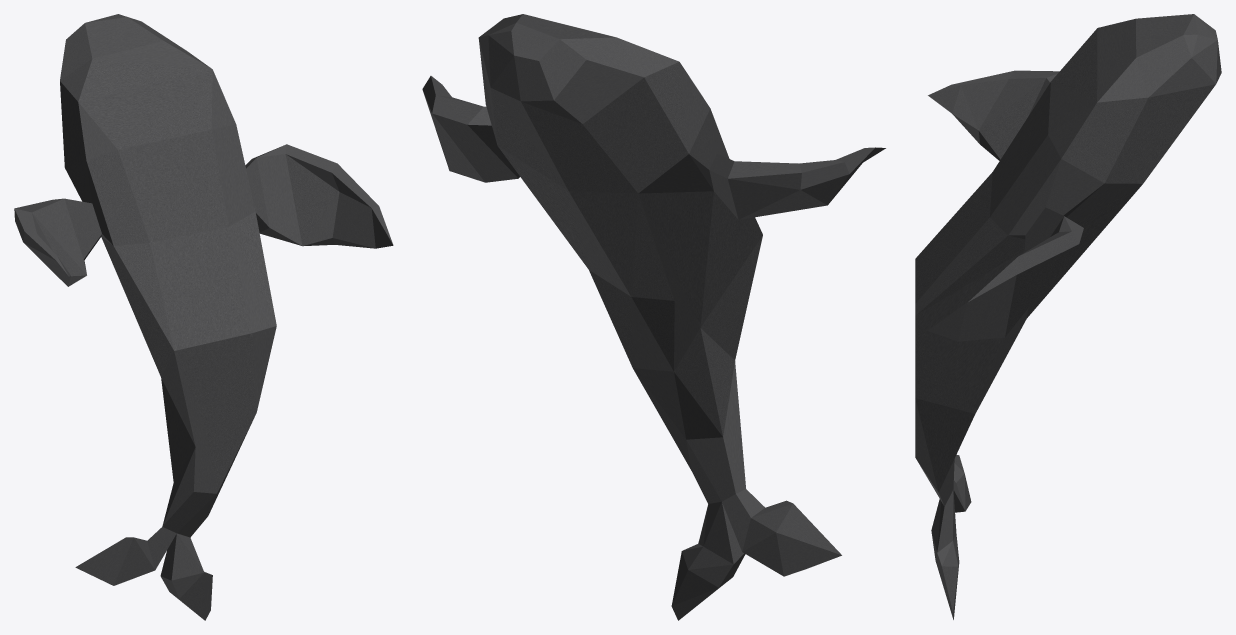
Rendered from ice_symbol_whale.FBX.
The picture shows the model from 3 angles, left to right: view 1: azimuth 30°, elevation 25°; view 2: azimuth 150°, elevation 25°; view 3: azimuth 270°, elevation 25°; orthographic projection. The views are drawn at different scales.
Visible parts, largest first — view 1: statue_5; view 2: statue_5; view 3: statue_5.
Part boxes in pixels (x1,y1,x2,y2): statue_5: [14, 14, 393, 620]; statue_5: [422, 14, 885, 620]; statue_5: [915, 14, 1221, 619].
Bounding box in the file's own units: 340 × 507 × 235.
